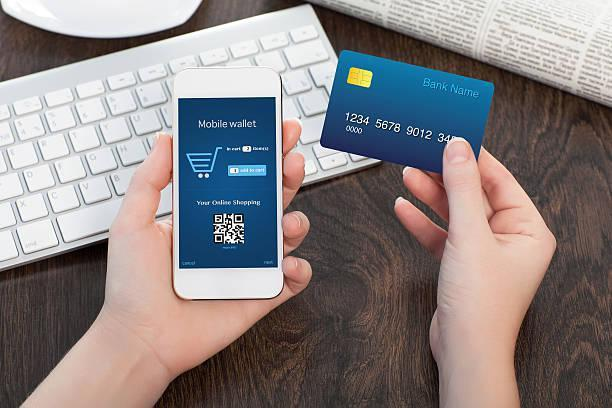qr_code: (213, 214, 245, 245)
